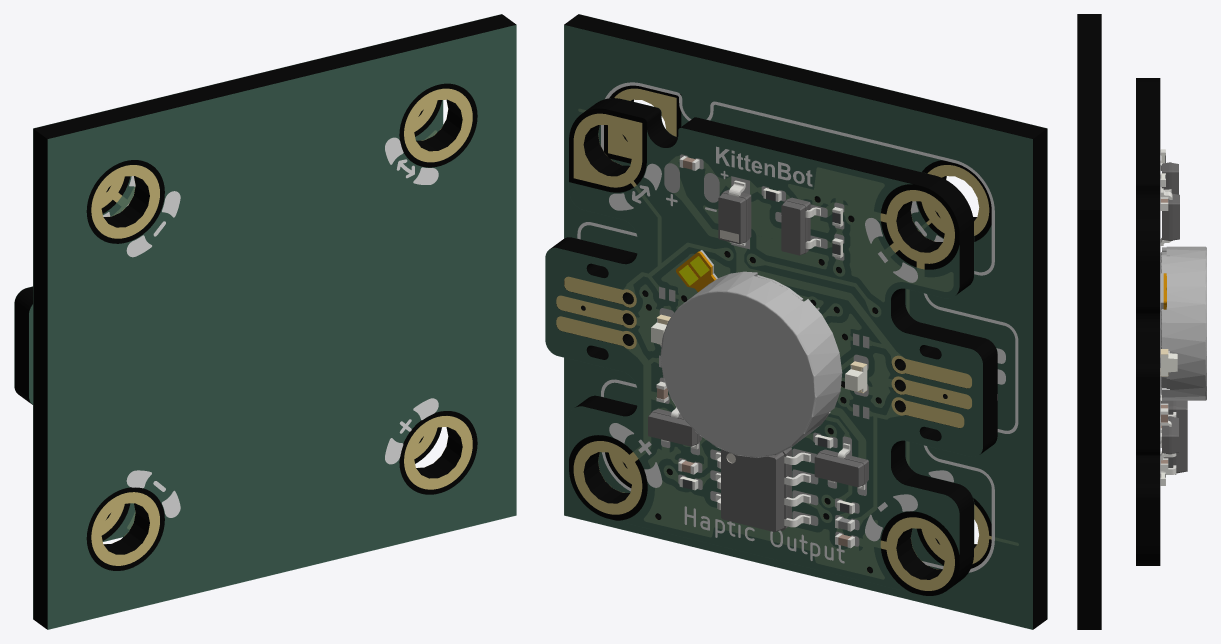
The model's file is ec30_2x2_lr_mh_0.1_haptic_output.glb.
3 views of the same model, side by side, from view 1: azimuth 30°, elevation 25°; view 2: azimuth 150°, elevation 25°; view 3: azimuth 270°, elevation 25° (orthographic). The views are drawn at different scales.
Parts seen in each view (by area): view 1: SHAPE_516_IndexedFaceSet, SHAPE_521_IndexedFaceSet, SHAPE_517_IndexedFaceSet, SHAPE_520_IndexedFaceSet, SHAPE_523_IndexedFaceSet, SHAPE_507_IndexedFaceSet, SHAPE_508_IndexedFaceSet, SHAPE_513_IndexedFaceSet, SHAPE_512_IndexedFaceSet, SHAPE_519_IndexedFaceSet; view 2: SHAPE_511_IndexedFaceSet, SHAPE_519_IndexedFaceSet, SHAPE_516_IndexedFaceSet, SHAPE_507_IndexedFaceSet, SHAPE_509_IndexedFaceSet, SHAPE_508_IndexedFaceSet, SHAPE_228_IndexedFaceSet, SHAPE_517_IndexedFaceSet, SHAPE_227_IndexedFaceSet, SHAPE_514_IndexedFaceSet, SHAPE_522_IndexedFaceSet, SHAPE_518_IndexedFaceSet (+8 smaller); view 3: SHAPE_517_IndexedFaceSet, SHAPE_508_IndexedFaceSet, SHAPE_227_IndexedFaceSet, SHAPE_446_IndexedFaceSet, SHAPE_226_IndexedFaceSet, SHAPE_208_IndexedFaceSet, SHAPE_183_IndexedFaceSet.
Boxes of the visible parts, x1,y1,x2,y2 form: SHAPE_516_IndexedFaceSet: (47, 24, 515, 629); SHAPE_521_IndexedFaceSet: (47, 25, 516, 629); SHAPE_517_IndexedFaceSet: (33, 14, 515, 629); SHAPE_520_IndexedFaceSet: (91, 88, 472, 565); SHAPE_523_IndexedFaceSet: (126, 137, 438, 517); SHAPE_507_IndexedFaceSet: (28, 100, 442, 540); SHAPE_508_IndexedFaceSet: (14, 110, 423, 519); SHAPE_513_IndexedFaceSet: (29, 100, 443, 541); SHAPE_512_IndexedFaceSet: (101, 100, 437, 535); SHAPE_519_IndexedFaceSet: (33, 14, 501, 618); SHAPE_511_IndexedFaceSet: (545, 127, 982, 592); SHAPE_519_IndexedFaceSet: (564, 25, 1032, 629); SHAPE_516_IndexedFaceSet: (564, 24, 1033, 629); SHAPE_507_IndexedFaceSet: (546, 108, 983, 595); SHAPE_509_IndexedFaceSet: (556, 113, 971, 590); SHAPE_508_IndexedFaceSet: (551, 98, 997, 587); SHAPE_228_IndexedFaceSet: (661, 292, 814, 456); SHAPE_517_IndexedFaceSet: (564, 14, 1047, 629); SHAPE_227_IndexedFaceSet: (688, 271, 842, 445); SHAPE_514_IndexedFaceSet: (609, 146, 917, 563); SHAPE_522_IndexedFaceSet: (577, 82, 1018, 572); SHAPE_518_IndexedFaceSet: (579, 88, 1018, 563); SHAPE_517_IndexedFaceSet: (1077, 14, 1101, 629); SHAPE_508_IndexedFaceSet: (1136, 78, 1160, 565); SHAPE_227_IndexedFaceSet: (1162, 246, 1205, 400); SHAPE_446_IndexedFaceSet: (1176, 409, 1187, 472); SHAPE_226_IndexedFaceSet: (1205, 246, 1206, 400); SHAPE_208_IndexedFaceSet: (1172, 204, 1179, 239); SHAPE_183_IndexedFaceSet: (1162, 204, 1169, 240).
Size of the model in its own units: 30 by 30 by 8.47.
